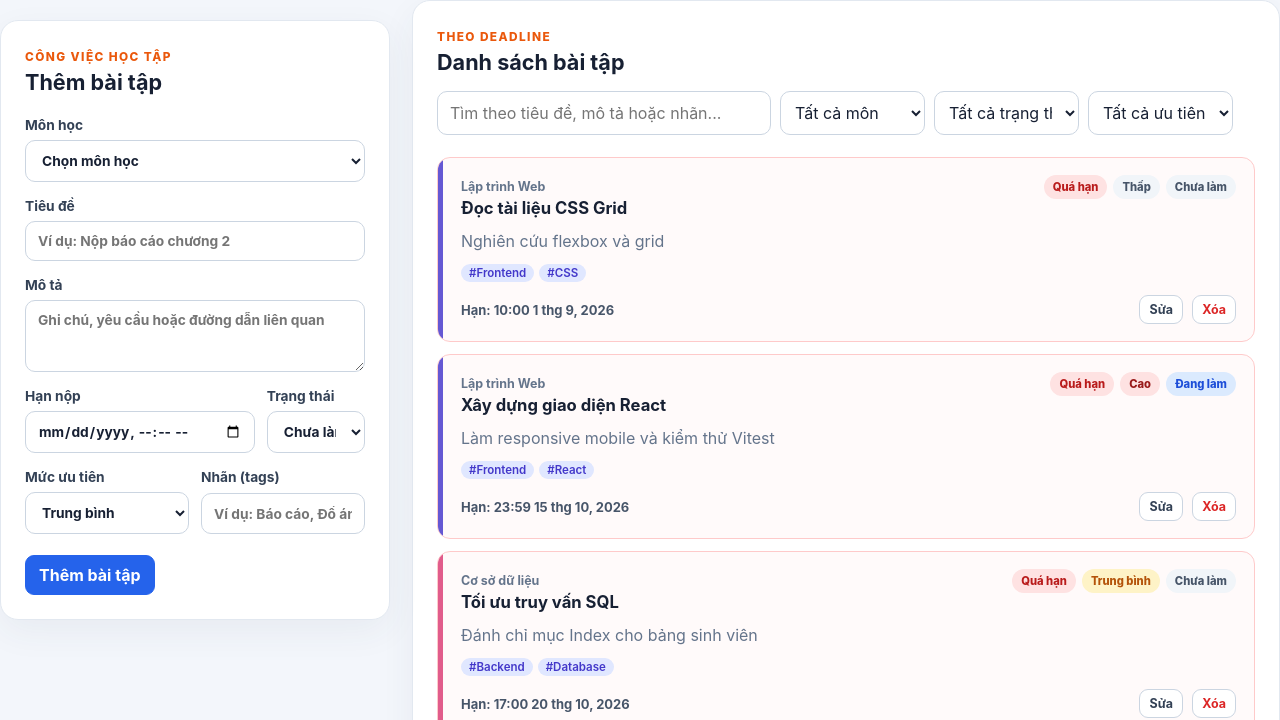
Test case: Advanced Assignments Workflow: Priority, Tags & Smart Filters › edits an assignment and updates priority and tags correctly
Note: Click Sửa on first assignment (Xây dựng giao diện React)
Click the 1st button "Sửa" at (1161, 310), box 1140,295 -> 1183,324
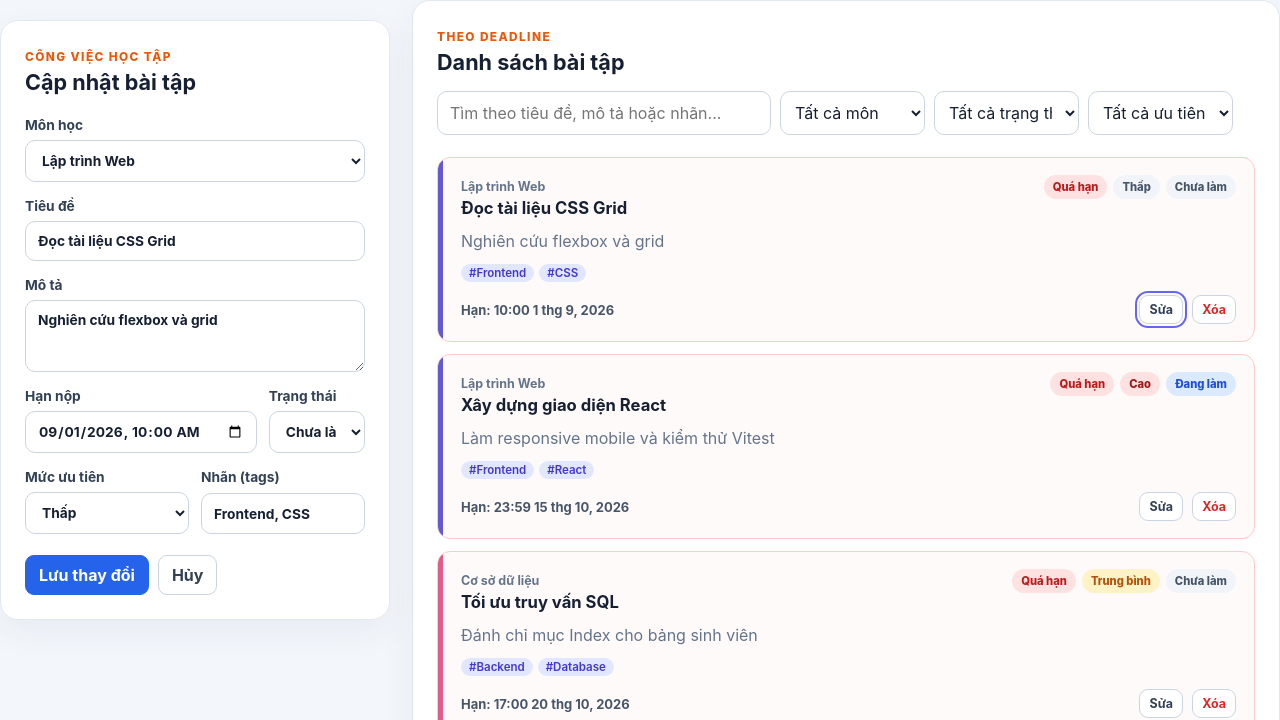
Result: the heading "Cập nhật bài tập" is shown at 25,69 -> 196,95
Note: Change priority to low and tags
Select "Thấp" in the dropdown named "Mức ưu tiên bài tập" at (107, 513), box 25,492 -> 189,534
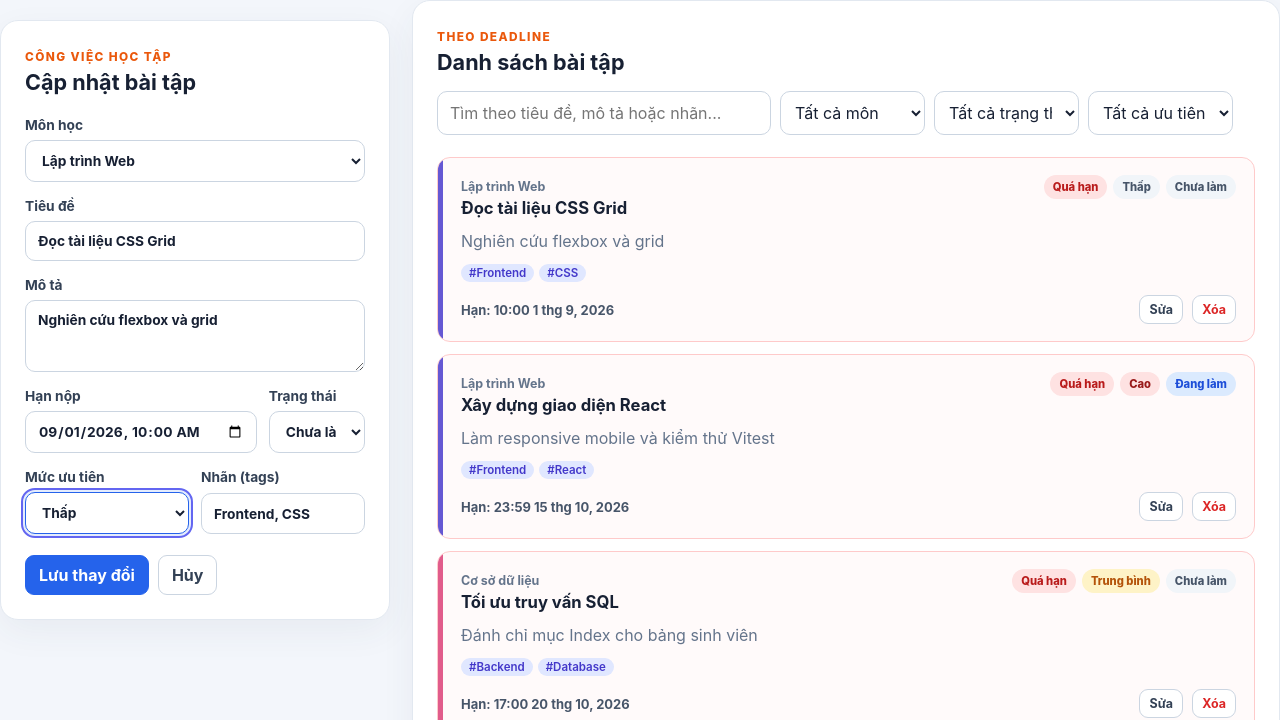
Replace the text in the field with placeholder "Ví dụ: Báo cáo, Đồ án" with "UI, Design" at (283, 514), box 201,493 -> 365,534
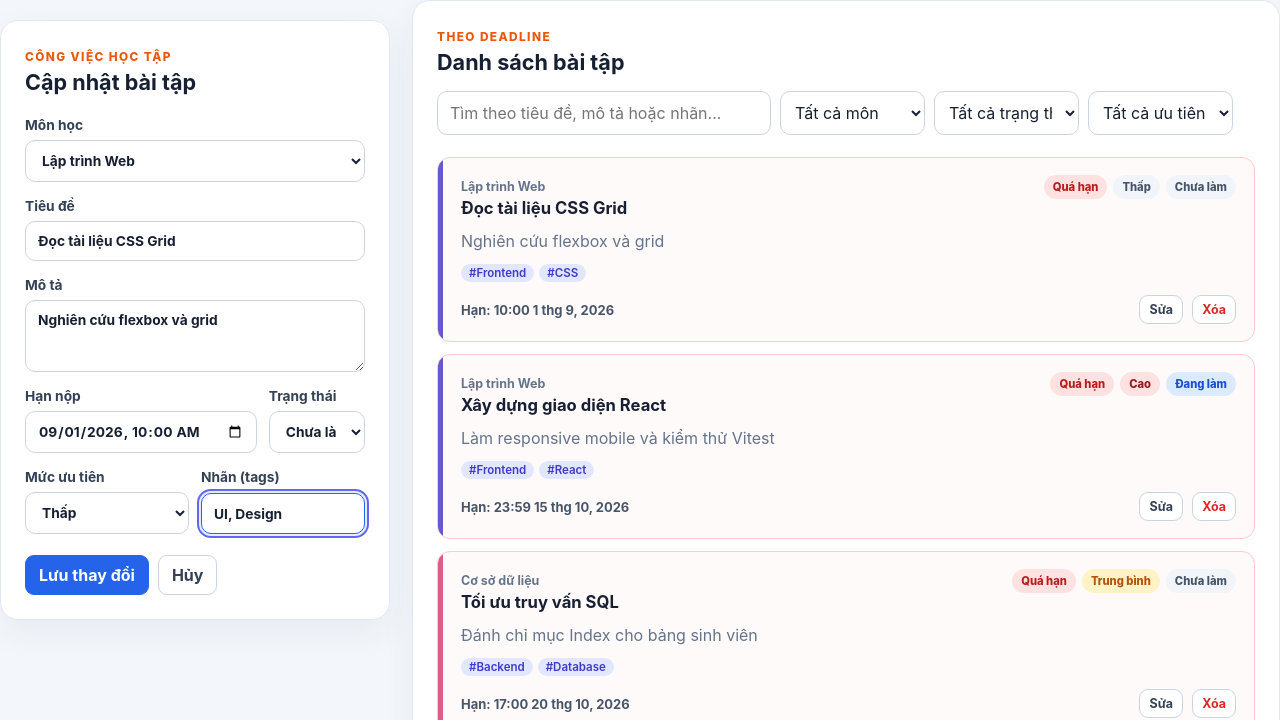
Click the button "Lưu thay đổi" at (87, 575), box 25,555 -> 149,595
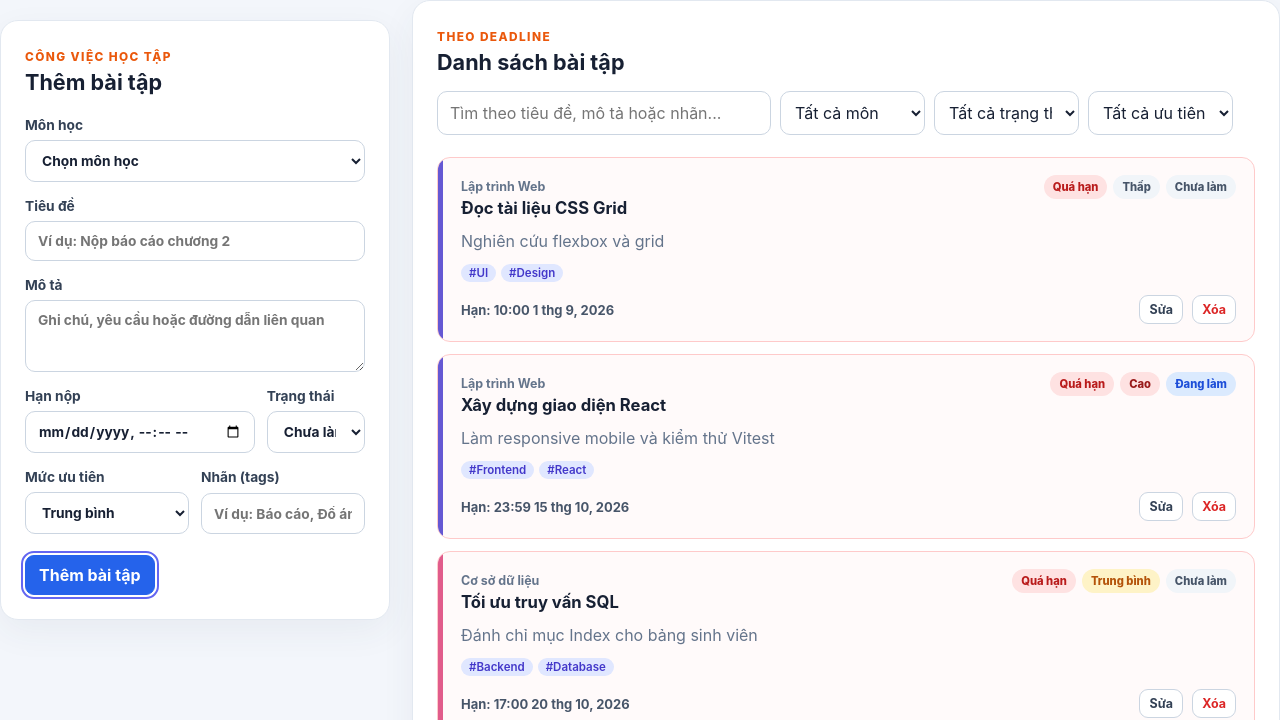
Result: the text "#UI" is shown at 461,264 -> 496,282
Result: the text "#Design" is shown at 501,264 -> 563,282
